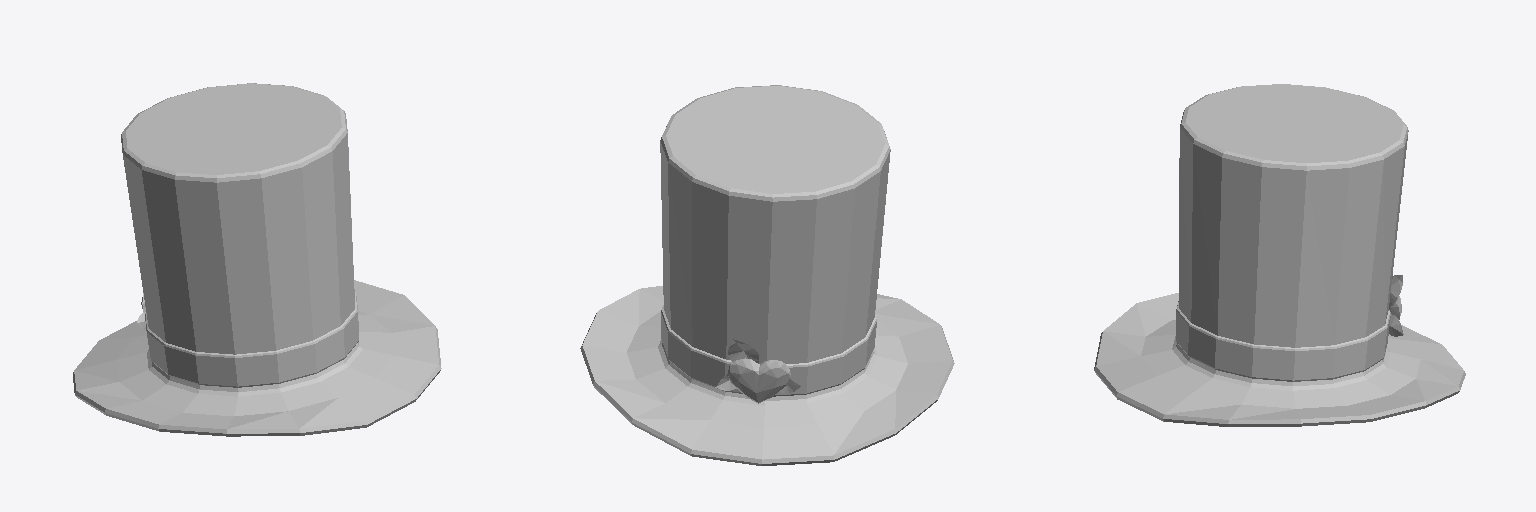
File: tophat_heart.sgm.obj
3 renders of one model, left to right at view 1: azimuth 30°, elevation 25°; view 2: azimuth 150°, elevation 25°; view 3: azimuth 270°, elevation 25°, orthographic.
Size of the model in its own units: 0.5709 by 0.4535 by 0.5712.